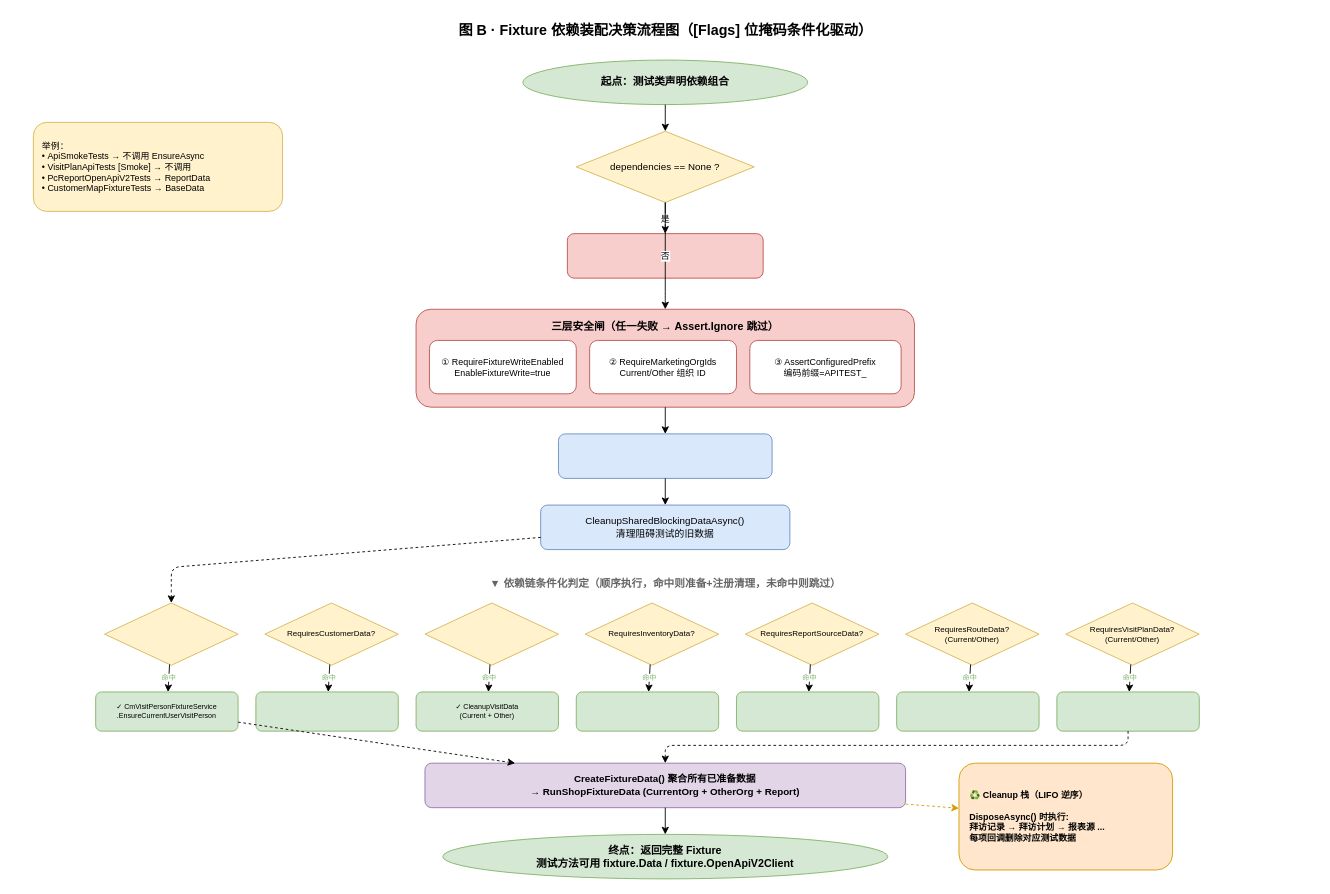
The diagram is 1330 pixels wide and 894 high, and some of its shapes have lost their labels. Each missing label, with the centre of its shape:
"RequiresVisitDataCleanup? (Current/Other)" goes at pixel 491 633.
"RequiresVisitPersonData?" goes at pixel 171 633.
"RestClient.AuthenticateAsync() 获取 T+ Token" goes at pixel 665 455.
"✓ EnsureCustomerData (双组织客户对)" goes at pixel 326 711.
"✓ EnsureInventoryData" goes at pixel 647 711.
"✓ EnsureReportSourceData + Cleanup.Add(报表源清理)" goes at pixel 807 711.
"✓ EnsureRouteData (Current + Other)" goes at pixel 967 711.
"✓ EnsureVisitPlanData + Cleanup.Add(删除计划)" goes at pixel 1127 711.
"直接返回空 Fixture （不认证、不准备数据）" goes at pixel 664 255.
